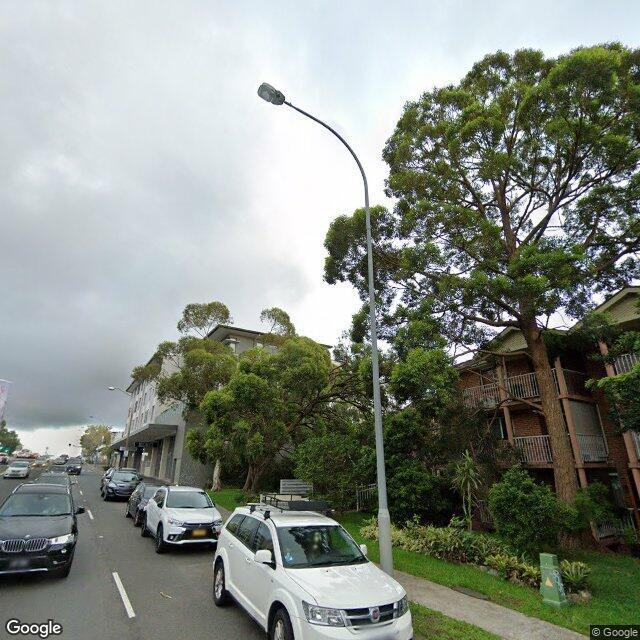steel-pole: (367, 225, 394, 578), (121, 398, 134, 468)
streetlight: (256, 82, 370, 225), (109, 386, 133, 398), (89, 415, 105, 424)
